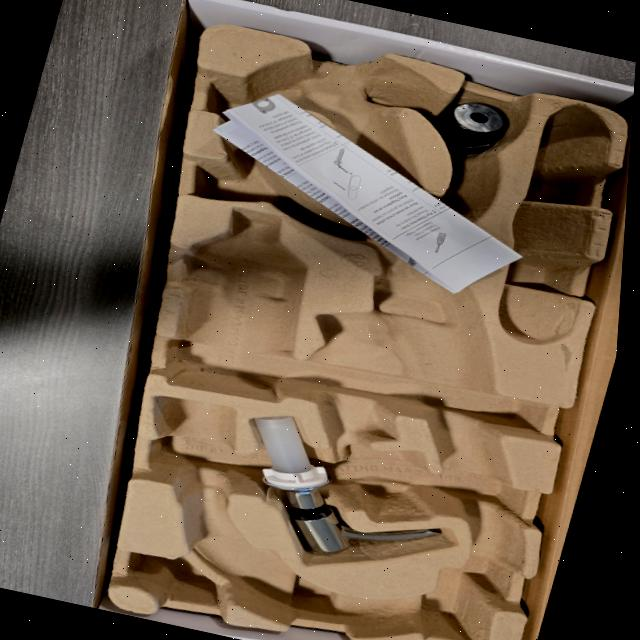1m: (154, 42, 522, 637)
2: (254, 416, 441, 553)
3m: (165, 205, 307, 400)
4m: (497, 102, 610, 342)
5: (439, 101, 508, 152)
6m: (201, 62, 303, 143)
7m: (196, 140, 321, 220)
8: (209, 91, 525, 292)
